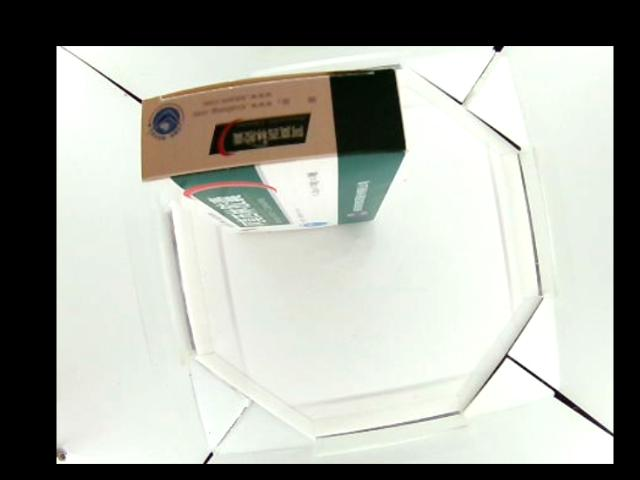Medicine: (140, 69, 405, 229)
